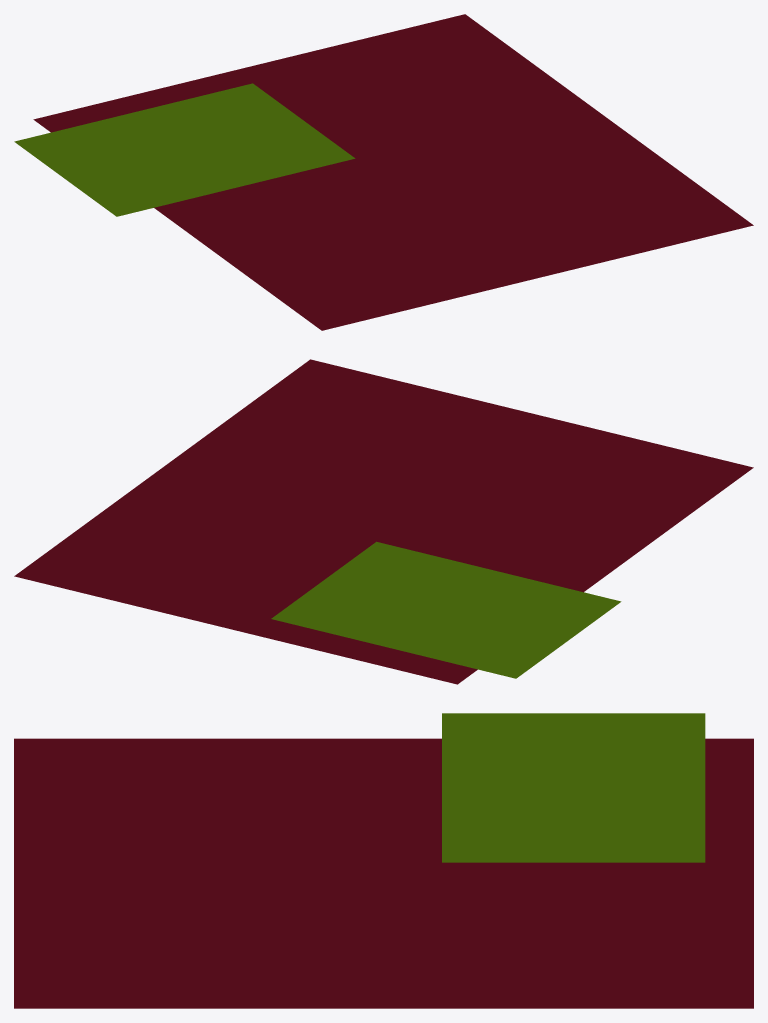
The model's file is ledge.glb.
3 renders of one model, top to bottom at view 1: azimuth 30°, elevation 25°; view 2: azimuth 150°, elevation 25°; view 3: azimuth 270°, elevation 25°, orthographic. The views are drawn at different scales.
Visible parts, largest first — view 1: Plane; view 2: Plane; view 3: Plane.
Part boxes in pixels (x1,y1,x2,y2): Plane: (14,14,753,330); Plane: (14,359,753,684); Plane: (14,713,753,1008).
Size of the model in its own units: 21.17 by 0.0458 by 22.52.
